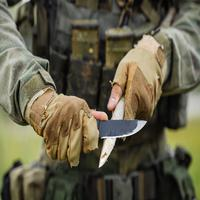knife: (33, 77, 154, 161)
